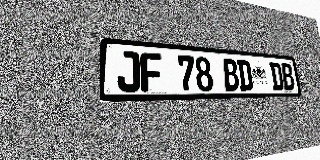7: (176, 55, 197, 92)
8: (195, 56, 214, 91)
B: (222, 58, 240, 91), (281, 63, 295, 90)
D: (236, 59, 254, 91), (269, 62, 285, 91)
F: (140, 52, 163, 92)
J: (117, 50, 141, 92)
